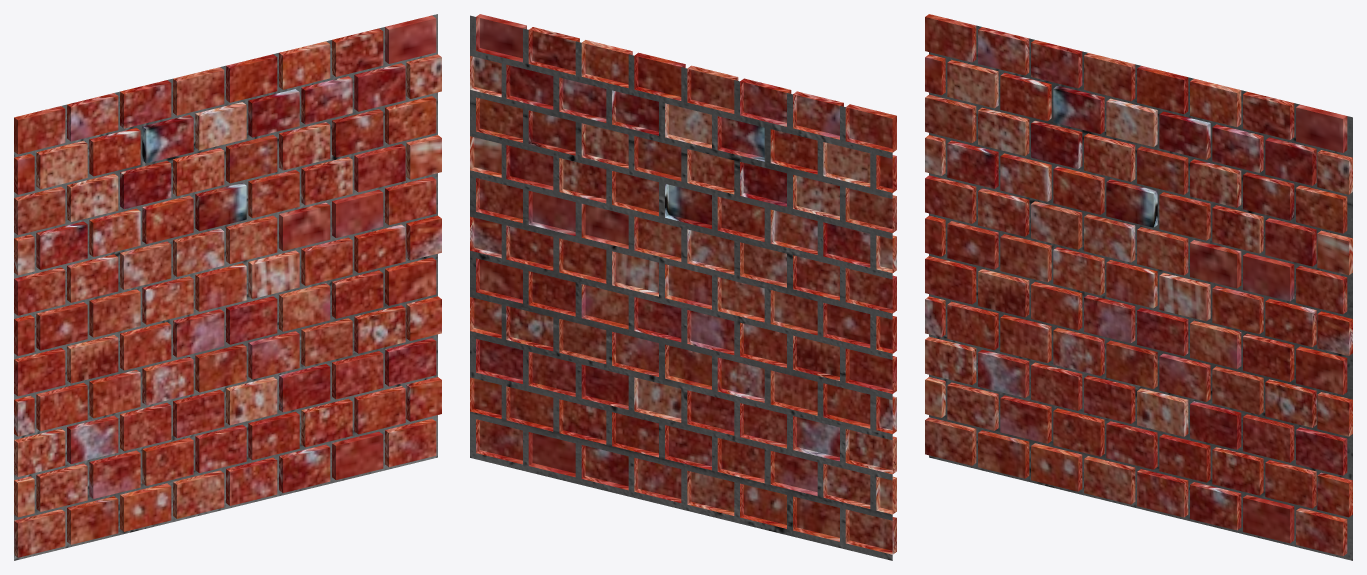
File: Pared_012.fbx
The picture shows the model from 3 angles, left to right: view 1: azimuth 30°, elevation 25°; view 2: azimuth 150°, elevation 25°; view 3: azimuth 330°, elevation 25°; orthographic projection.
Visible parts, largest first — view 1: Plane; view 2: Plane; view 3: Plane.
Part boxes in pixels (x1,y1,x2,y2): Plane: (14,14,441,560); Plane: (470,14,896,560); Plane: (925,14,1352,560).
Bounding box in the file's own units: 600 × 600 × 9.99.
